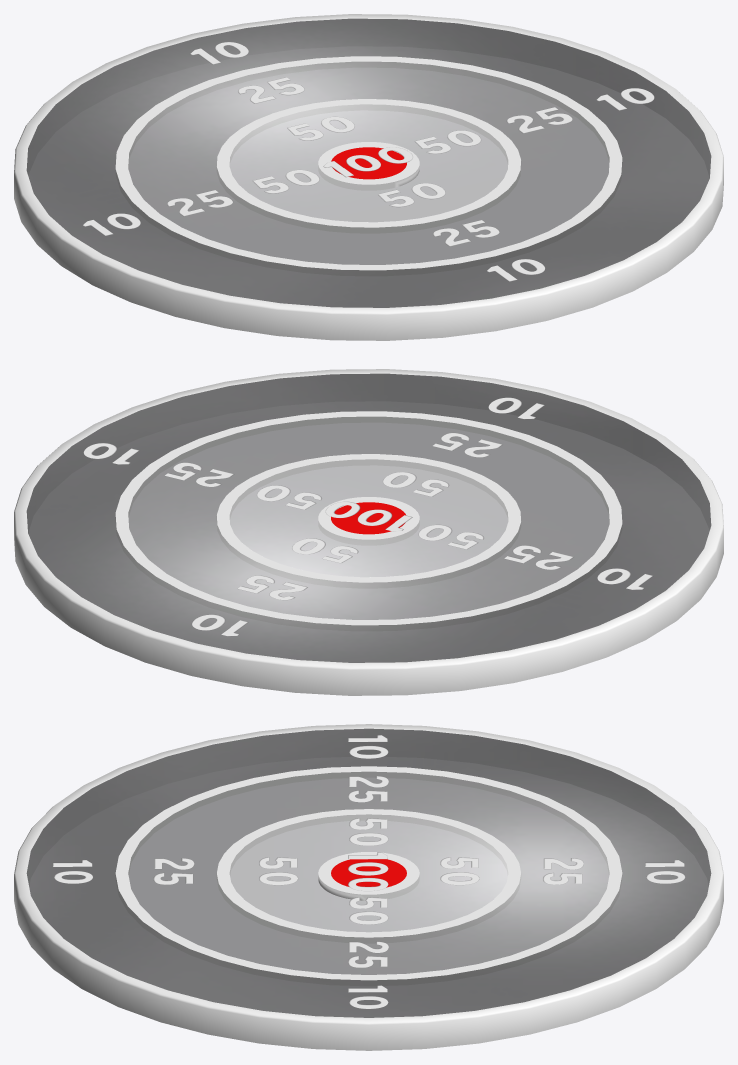
File: glf_mato__glf_mato_A.glb
The picture shows the model from 3 angles, top to bottom: view 1: azimuth 30°, elevation 25°; view 2: azimuth 150°, elevation 25°; view 3: azimuth 270°, elevation 25°; orthographic projection.
Parts seen in each view (by area): view 1: polygon0, polygon2, polygon4, polygon5, polygon1; view 2: polygon0, polygon2, polygon4, polygon5, polygon1; view 3: polygon0, polygon2, polygon4, polygon5, polygon1.
Part boxes in pixels (x1,y1,x2,y2): polygon0: (26,18,711,307); polygon2: (14,14,723,340); polygon4: (128,61,609,264); polygon5: (230,104,507,221); polygon1: (82,42,654,281); polygon0: (26,373,711,662); polygon2: (14,369,723,695); polygon4: (128,416,609,619); polygon5: (230,459,507,576); polygon1: (83,397,652,636); polygon0: (26,728,711,1017); polygon2: (14,724,723,1050); polygon4: (128,771,609,974); polygon5: (230,814,507,931); polygon1: (53,735,685,1008).
Size of the model in its own units: 640 by 29.14 by 640.
6 materials, 5 textured.
